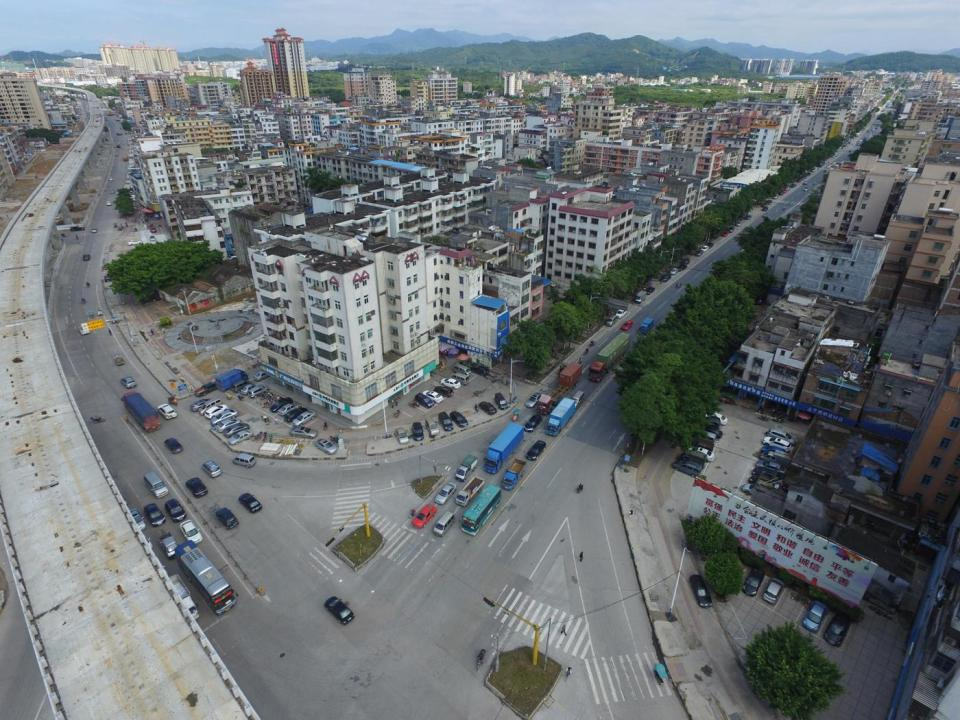bus: (174, 541, 238, 615), (459, 484, 502, 537)
car: (324, 596, 356, 624), (825, 613, 848, 647), (689, 574, 712, 607), (802, 601, 826, 631), (742, 568, 764, 598), (413, 503, 437, 528), (763, 576, 783, 604), (164, 498, 186, 523), (143, 503, 165, 527), (180, 520, 202, 544), (742, 484, 772, 500), (210, 409, 238, 426), (126, 508, 144, 534), (435, 483, 457, 504), (186, 477, 208, 498), (238, 494, 262, 513), (764, 436, 791, 452), (756, 460, 786, 474), (750, 475, 782, 488), (526, 441, 546, 461), (228, 429, 253, 445), (224, 423, 250, 438), (688, 446, 714, 461), (292, 412, 316, 428), (202, 460, 222, 478), (752, 468, 782, 480), (285, 406, 307, 422), (217, 418, 242, 432), (190, 397, 213, 412), (523, 414, 542, 432), (157, 403, 177, 420), (314, 439, 336, 454), (270, 397, 292, 412), (705, 412, 727, 427), (205, 404, 228, 418), (291, 427, 317, 439), (452, 410, 468, 428), (164, 438, 182, 454), (278, 402, 300, 415), (526, 393, 544, 408), (762, 446, 786, 457), (422, 390, 442, 403), (426, 417, 440, 435), (412, 422, 425, 441), (415, 394, 433, 407), (470, 365, 489, 376), (396, 428, 409, 444), (120, 375, 136, 388), (480, 402, 496, 414), (241, 384, 258, 395), (255, 370, 272, 381), (440, 379, 460, 388), (616, 308, 628, 319), (621, 320, 633, 330), (128, 240, 142, 246), (661, 274, 671, 282), (70, 226, 85, 231), (680, 259, 690, 266), (670, 267, 678, 275), (646, 287, 654, 295), (104, 275, 111, 282), (678, 265, 686, 271), (700, 246, 708, 252), (706, 243, 713, 249), (84, 254, 90, 260), (722, 231, 728, 237), (695, 250, 702, 255), (91, 227, 97, 232), (150, 236, 156, 241), (736, 221, 742, 226), (728, 227, 734, 232), (745, 214, 751, 219), (106, 202, 112, 206), (804, 187, 808, 192), (803, 180, 808, 184), (109, 177, 113, 181), (111, 190, 113, 193)
truck: (537, 362, 582, 416), (484, 423, 525, 475), (589, 332, 630, 382), (161, 574, 198, 626), (120, 391, 160, 432), (546, 399, 574, 436), (455, 476, 484, 506), (502, 458, 525, 490), (215, 369, 247, 391), (157, 531, 180, 559), (455, 454, 477, 483), (194, 380, 224, 396), (760, 452, 790, 465), (688, 440, 714, 452), (640, 317, 654, 334), (635, 291, 647, 304)
van: (144, 472, 169, 499), (433, 511, 455, 537), (673, 459, 702, 478), (766, 428, 796, 445), (215, 507, 238, 528), (198, 398, 222, 415), (681, 450, 706, 466), (232, 453, 256, 468), (681, 455, 703, 469), (700, 414, 722, 428), (248, 385, 270, 398), (494, 393, 509, 410), (452, 364, 470, 378), (693, 431, 718, 441), (439, 412, 452, 430), (232, 380, 251, 392), (434, 385, 452, 397), (571, 392, 584, 408), (452, 373, 468, 385), (606, 314, 617, 326)
